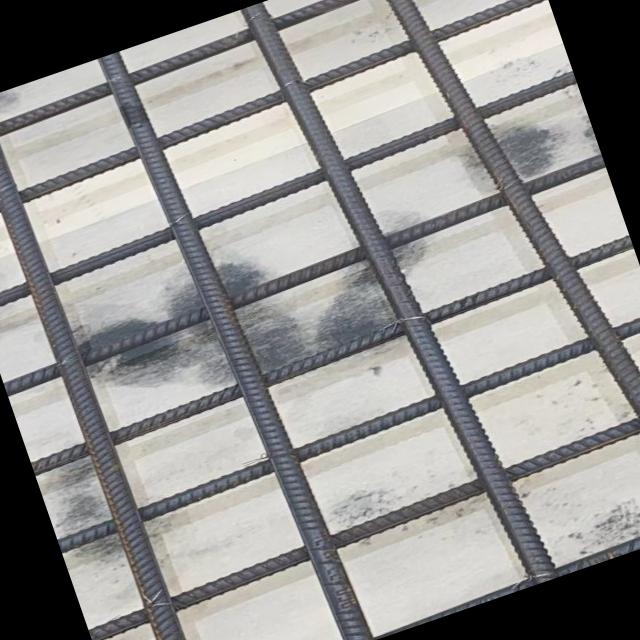ribbed bar: (240, 0, 558, 613), (96, 35, 373, 640), (364, 0, 640, 570), (23, 233, 639, 475), (0, 154, 612, 396), (0, 68, 584, 315), (50, 310, 640, 554), (80, 398, 640, 640), (0, 0, 555, 232), (0, 93, 204, 640), (0, 0, 532, 165), (281, 513, 640, 640)
